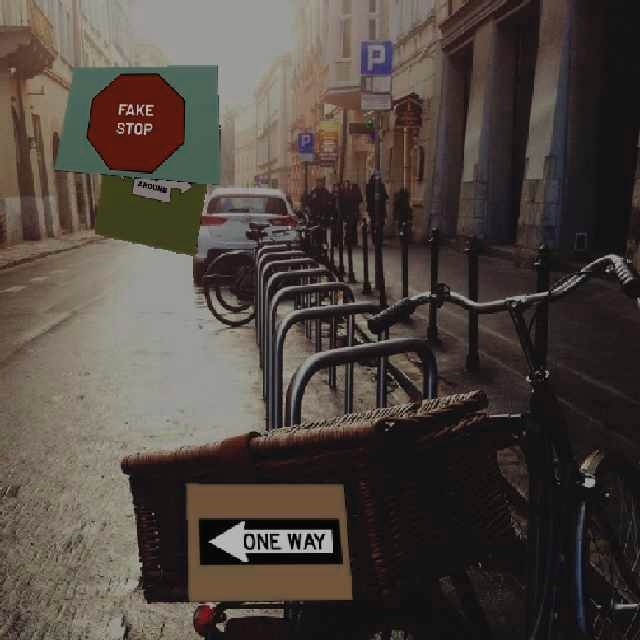DO_NOT_GO_AROUND: (109, 146, 196, 207)
FAKE_STOP: (80, 69, 192, 174)
ONE_WAY_ left: (198, 517, 342, 564)
